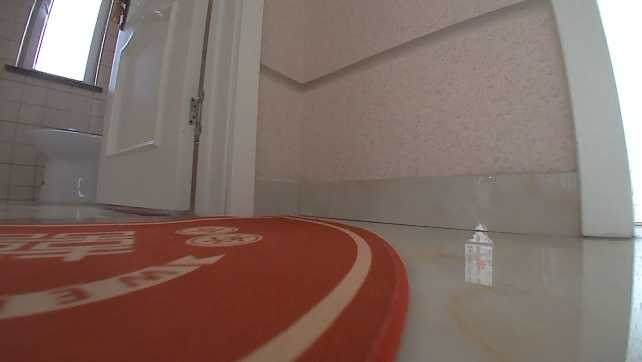blanket: (0, 215, 414, 360)
door_anno: (94, 0, 270, 217)
toilet: (29, 123, 101, 201)
